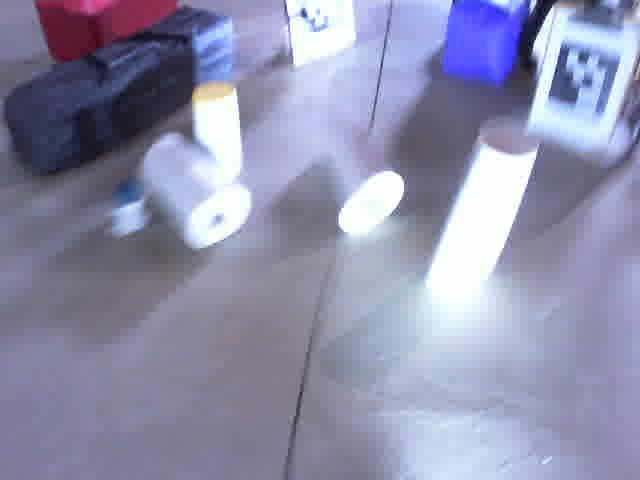coral: (425, 118, 543, 294), (138, 131, 249, 249), (308, 129, 406, 231)
